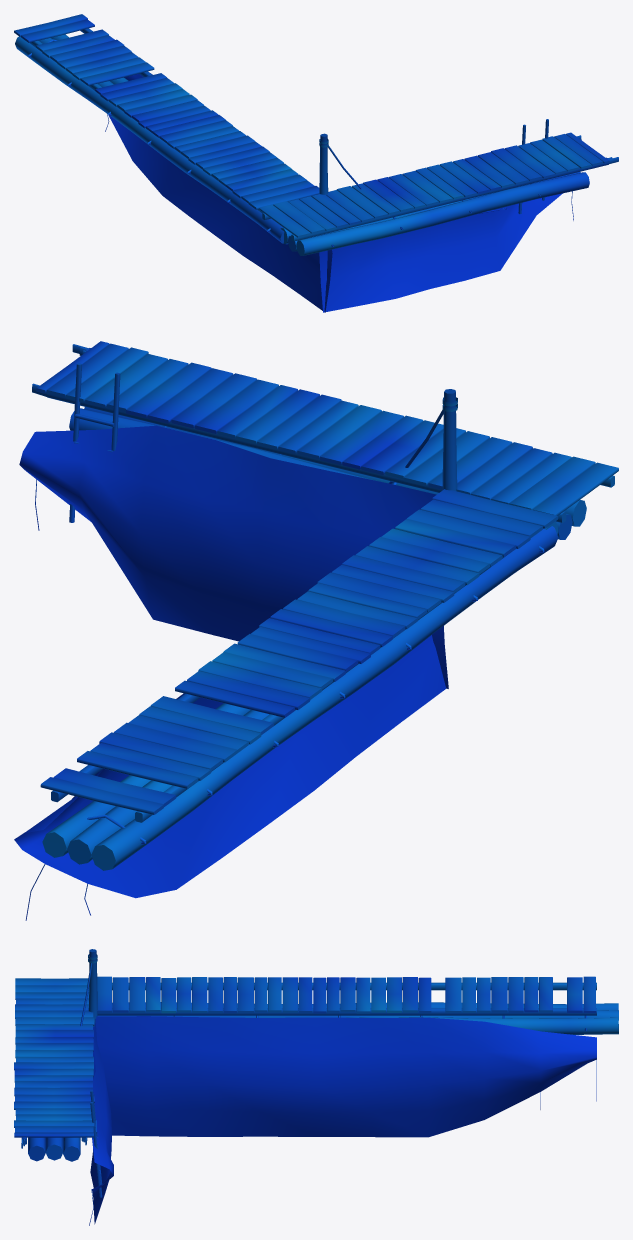
Rendered from net_pen_split_b.glb.
The picture shows the model from 3 angles, top to bottom: view 1: azimuth 30°, elevation 25°; view 2: azimuth 150°, elevation 25°; view 3: azimuth 270°, elevation 25°; orthographic projection. The views are drawn at different scales.
Parts seen in each view (by area): view 1: net_pen_split_b; view 2: net_pen_split_b; view 3: net_pen_split_b.
Part boxes in pixels (left/top/right/bottom): net_pen_split_b: left=14, top=14, right=618, bottom=312; net_pen_split_b: left=14, top=341, right=618, bottom=920; net_pen_split_b: left=14, top=949, right=618, bottom=1225.
Size of what is drawn, in the model's own units: 7.1 by 3.75 by 11.04.
